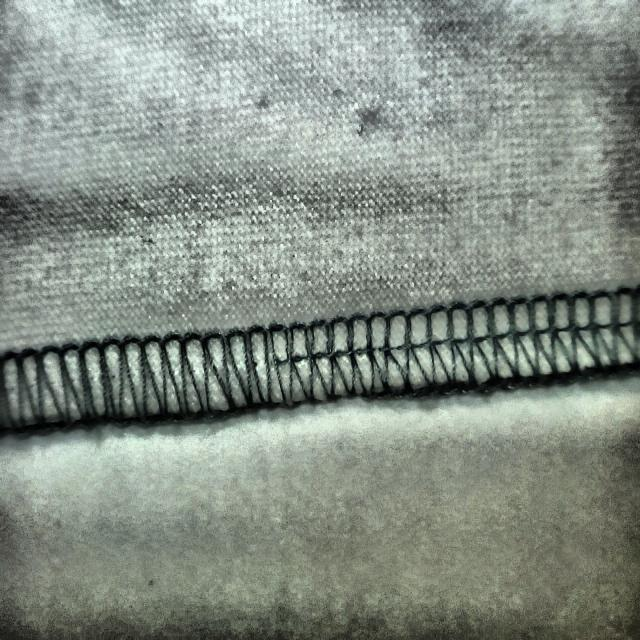gray stitch: (83, 301, 472, 428)
